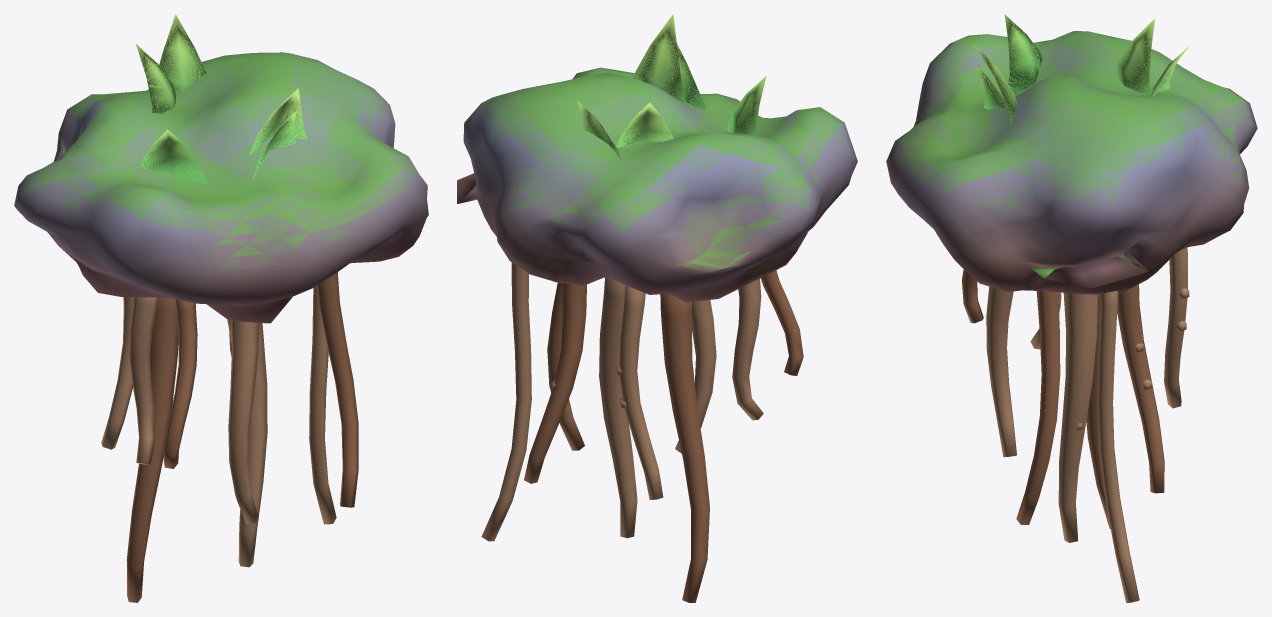
The model's file is verdant_hang_roots_chunk.glb.
3 renders of one model, left to right at view 1: azimuth 30°, elevation 25°; view 2: azimuth 150°, elevation 25°; view 3: azimuth 270°, elevation 25°, orthographic. The views are drawn at different scales.
Visible parts, largest first — view 1: verdant_hang_roots_chunk; view 2: verdant_hang_roots_chunk; view 3: verdant_hang_roots_chunk.
Boxes of the visible parts, left/top/right/bottom form: verdant_hang_roots_chunk: left=14, top=14, right=428, bottom=602; verdant_hang_roots_chunk: left=457, top=14, right=857, bottom=602; verdant_hang_roots_chunk: left=886, top=14, right=1257, bottom=602.
Bounding box in the file's own units: 2.25 × 3.1 × 1.97.
